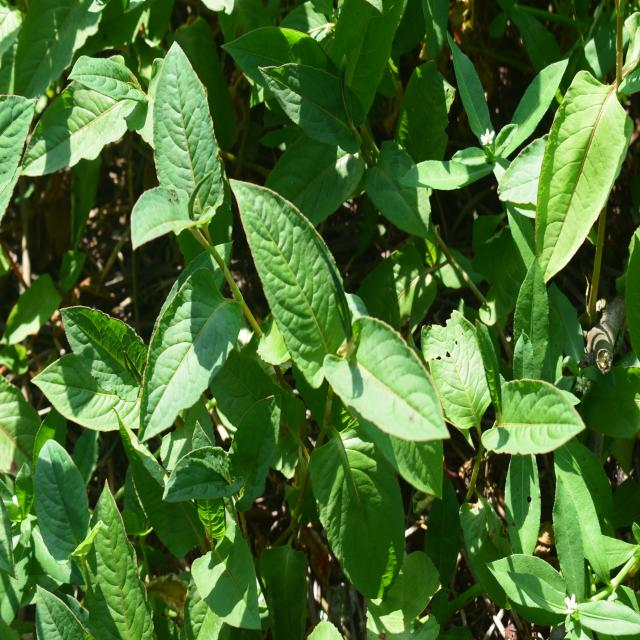Chinese_knotweed: (250, 162, 447, 494), (128, 70, 248, 452)
